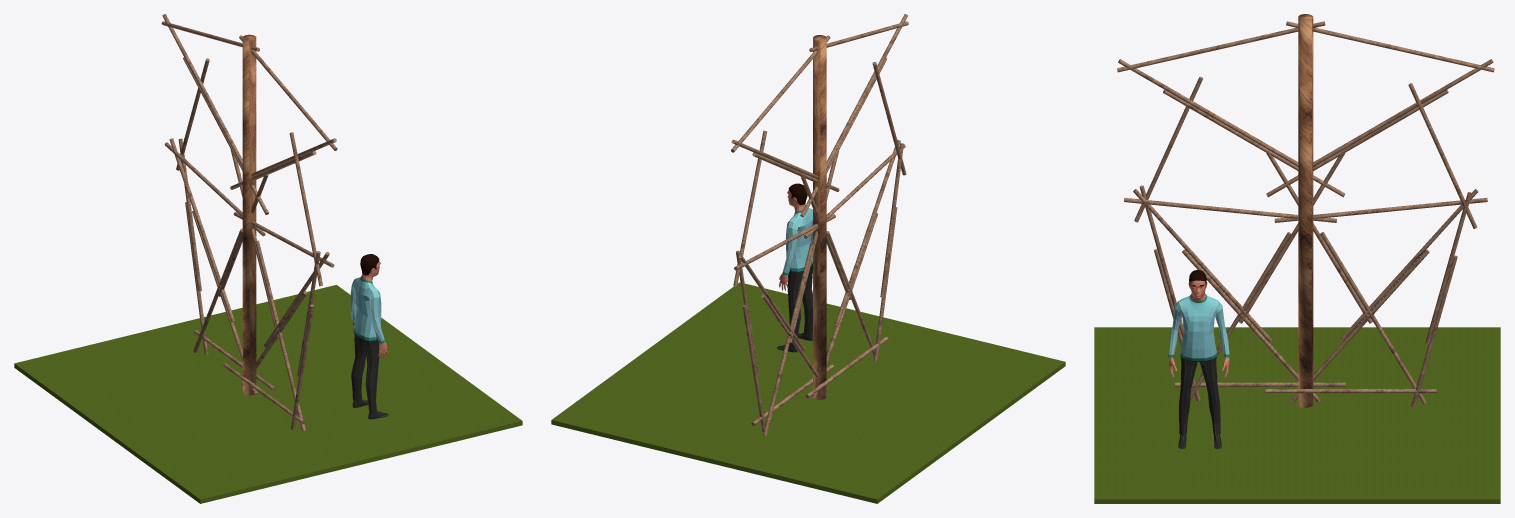
The model's file is flag.glb.
3 renders of one model, left to right at view 1: azimuth 30°, elevation 25°; view 2: azimuth 150°, elevation 25°; view 3: azimuth 270°, elevation 25°, orthographic. The views are drawn at different scales.
Parts seen in each view (by area): view 1: Plane, Cylinder.002, Human 2.004, Cylinder.014, Cylinder.023, Cylinder.011, Cylinder.019, Cylinder.020, Cylinder.007, Cylinder.017; view 2: Plane, Cylinder.002, Human 2.004, Cylinder.012, Cylinder.025, Cylinder.022, Cylinder.018, Cylinder.008, Cylinder.009, Cylinder.006; view 3: Plane, Cylinder.002, Human 2.004, Cylinder.022, Cylinder.011, Cylinder.020, Cylinder.009, Cylinder.016, Cylinder.025, Cylinder.005, Cylinder.012, Cylinder.014 (+14 smaller).
Part boxes in pixels (<box>): Plane: <box>14,285,522,503</box>; Cylinder.002: <box>242,34,256,395</box>; Human 2.004: <box>350,254,388,419</box>; Cylinder.014: <box>169,138,234,322</box>; Cylinder.023: <box>255,240,305,431</box>; Cylinder.011: <box>162,14,242,166</box>; Cylinder.019: <box>289,132,322,286</box>; Cylinder.020: <box>239,35,337,150</box>; Cylinder.007: <box>178,138,201,291</box>; Cylinder.017: <box>290,304,313,429</box>; Plane: <box>551,282,1065,503</box>; Cylinder.002: <box>813,35,826,399</box>; Human 2.004: <box>777,183,812,352</box>; Cylinder.012: <box>763,243,814,436</box>; Cylinder.025: <box>834,139,900,325</box>; Cylinder.022: <box>826,14,907,169</box>; Cylinder.018: <box>880,143,903,297</box>; Cylinder.008: <box>733,130,767,286</box>; Cylinder.009: <box>731,35,830,152</box>; Cylinder.006: <box>742,305,765,431</box>; Plane: <box>1094,327,1500,503</box>; Cylinder.002: <box>1298,14,1313,407</box>; Human 2.004: <box>1168,270,1229,449</box>; Cylinder.022: <box>1118,59,1298,166</box>; Cylinder.011: <box>1313,59,1493,166</box>; Cylinder.020: <box>1117,21,1325,72</box>; Cylinder.009: <box>1286,21,1494,72</box>; Cylinder.016: <box>1124,197,1336,222</box>; Cylinder.025: <box>1133,189,1271,341</box>; Cylinder.005: <box>1274,198,1487,222</box>; Cylinder.012: <box>1320,232,1426,404</box>; Cylinder.014: <box>1339,189,1478,341</box>.
Size of the model in its own units: 3.8 by 4.05 by 3.8.
6 materials, 6 textured.
